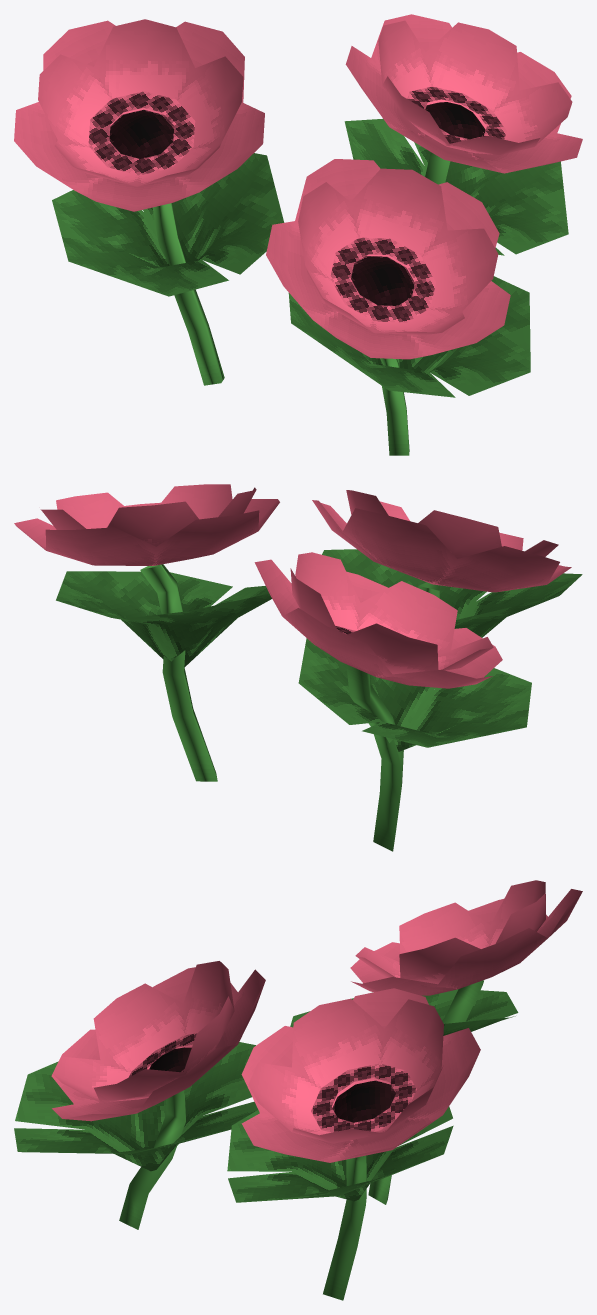
Rendered from flower-windflower.glb.
The picture shows the model from 3 angles, top to bottom: view 1: azimuth 30°, elevation 25°; view 2: azimuth 150°, elevation 25°; view 3: azimuth 270°, elevation 25°; orthographic projection. The views are drawn at different scales.
Parts seen in each view (by area): view 1: PltFlwAnemone__PltFlwAnemone2_node2, PltFlwAnemone__PltFlwAnemone2_node1; view 2: PltFlwAnemone__PltFlwAnemone2_node2, PltFlwAnemone__PltFlwAnemone2_node1; view 3: PltFlwAnemone__PltFlwAnemone2_node2, PltFlwAnemone__PltFlwAnemone2_node1.
Part boxes in pixels (left/top/right/bottom): PltFlwAnemone__PltFlwAnemone2_node2: left=14, top=14, right=582, bottom=359; PltFlwAnemone__PltFlwAnemone2_node1: left=52, top=119, right=568, bottom=455; PltFlwAnemone__PltFlwAnemone2_node2: left=14, top=484, right=571, bottom=688; PltFlwAnemone__PltFlwAnemone2_node1: left=56, top=549, right=582, bottom=851; PltFlwAnemone__PltFlwAnemone2_node2: left=51, top=880, right=582, bottom=1162; PltFlwAnemone__PltFlwAnemone2_node1: left=14, top=980, right=518, bottom=1300.
Size of the model in its own units: 0.9974 by 0.6035 by 1.02.
2 materials, 2 textured.
